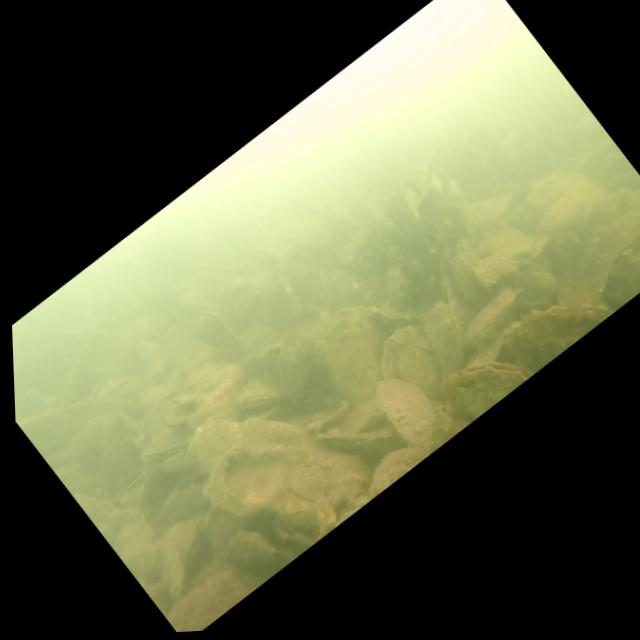Oyster-Closed: (480, 267, 613, 388), (428, 332, 535, 431), (132, 503, 232, 602), (405, 292, 496, 390), (314, 393, 403, 482), (446, 277, 535, 356), (576, 211, 640, 318), (219, 509, 298, 590), (437, 233, 502, 305), (363, 284, 421, 344), (367, 259, 425, 318), (229, 370, 286, 423), (334, 392, 390, 444), (425, 264, 470, 313)
Oyster-Indeterminate: (188, 384, 379, 571), (178, 371, 322, 510), (521, 155, 640, 308), (298, 296, 411, 414), (366, 361, 456, 463), (364, 315, 456, 413), (162, 558, 254, 633)
Oyster-Open: (188, 300, 254, 376), (133, 415, 202, 480)
